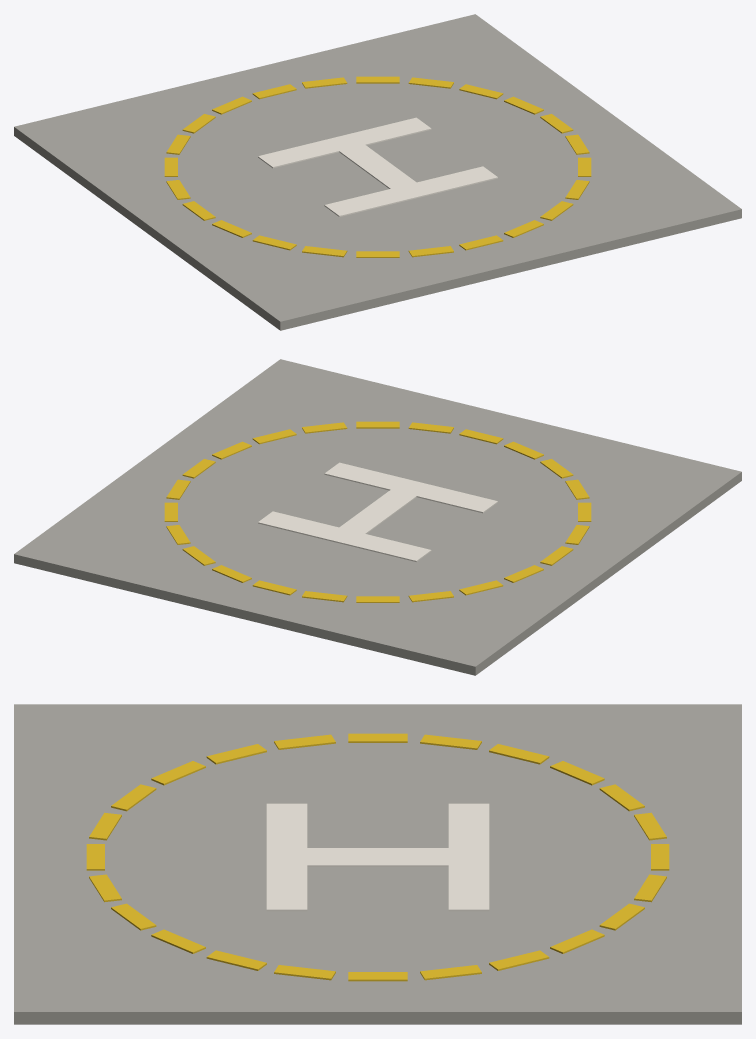
The model's file is helipad.glb.
3 views of the same model, one above another, from view 1: azimuth 30°, elevation 25°; view 2: azimuth 150°, elevation 25°; view 3: azimuth 270°, elevation 25° (orthographic). The views are drawn at different scales.
Parts seen in each view (by area): view 1: helipad; view 2: helipad; view 3: helipad.
Part boxes in pixels (x1,y1,x2,y2): helipad: (14, 14, 741, 330); helipad: (14, 359, 741, 675); helipad: (14, 704, 741, 1024).
Bounding box in the file's own units: 16 × 0.34 × 16.
